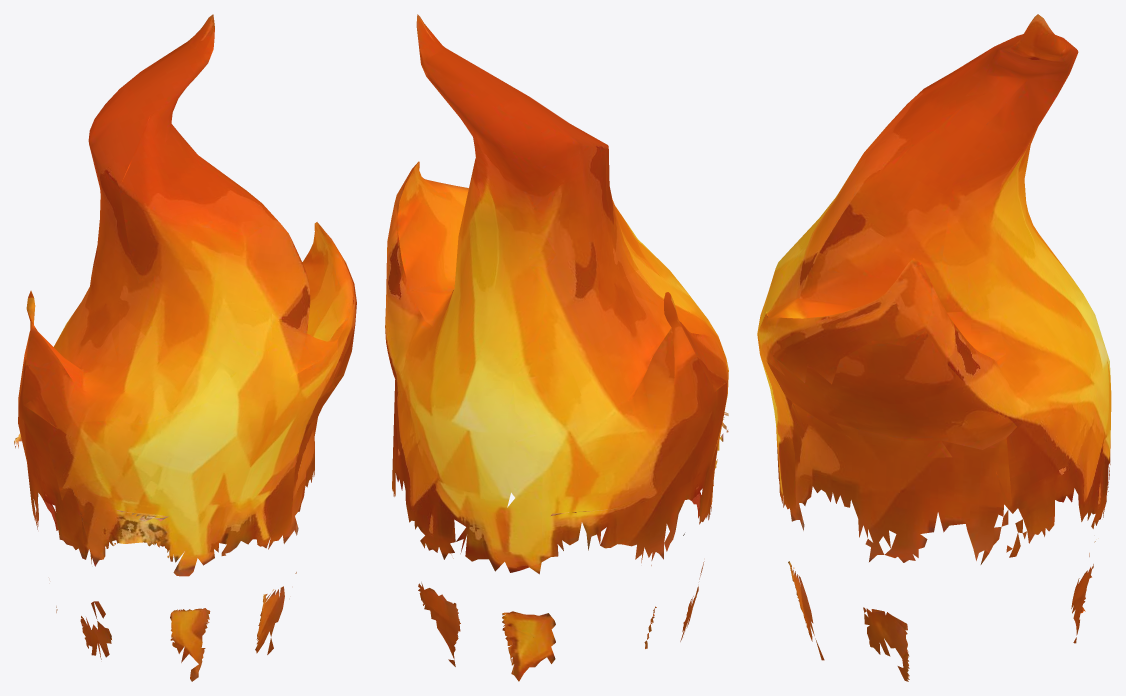
File: TorchBlazingFlame.glb
3 views of the same model, side by side, from view 1: azimuth 30°, elevation 25°; view 2: azimuth 150°, elevation 25°; view 3: azimuth 270°, elevation 25° (orthographic). The views are drawn at different scales.
Visible parts, largest first — view 1: TorchBlazingFlame; view 2: TorchBlazingFlame; view 3: TorchBlazingFlame.
Boxes of the visible parts, x1,y1,x2,y2 form: TorchBlazingFlame: (14, 14, 356, 681); TorchBlazingFlame: (385, 14, 728, 681); TorchBlazingFlame: (757, 14, 1111, 681).
Bounding box in the file's own units: 0.1774 × 0.3252 × 0.1545.
1 material, 1 textured.
